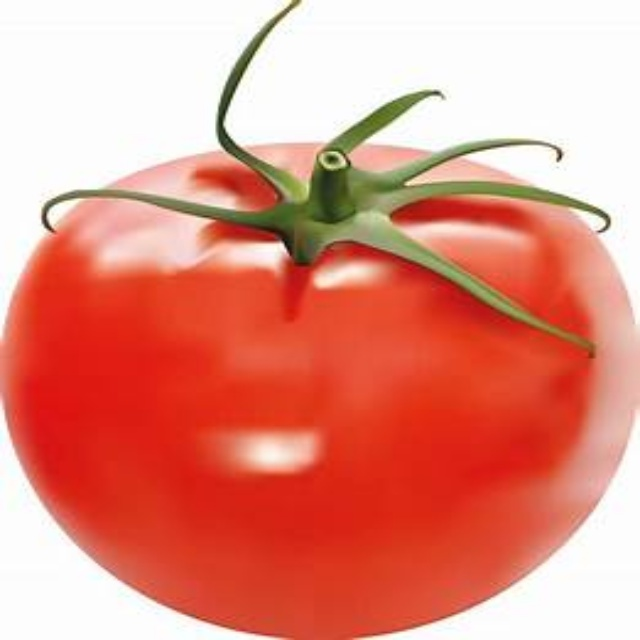tomato: (4, 87, 634, 639)
